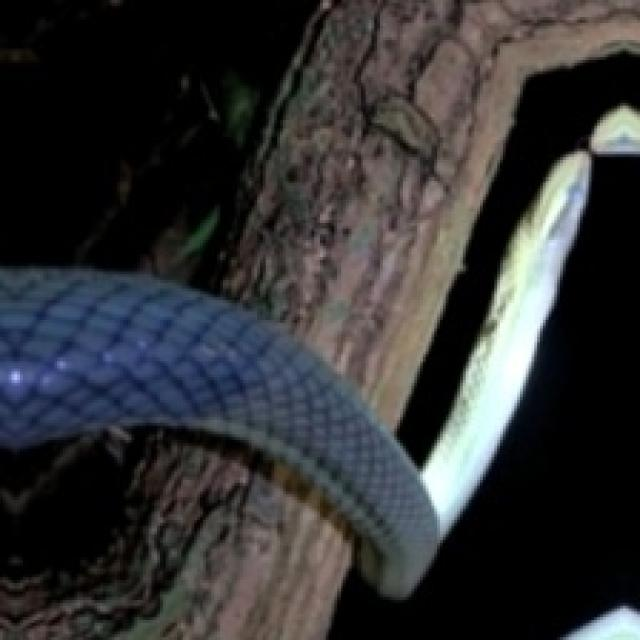red-tailed green ratsnake: (0, 108, 640, 598)
